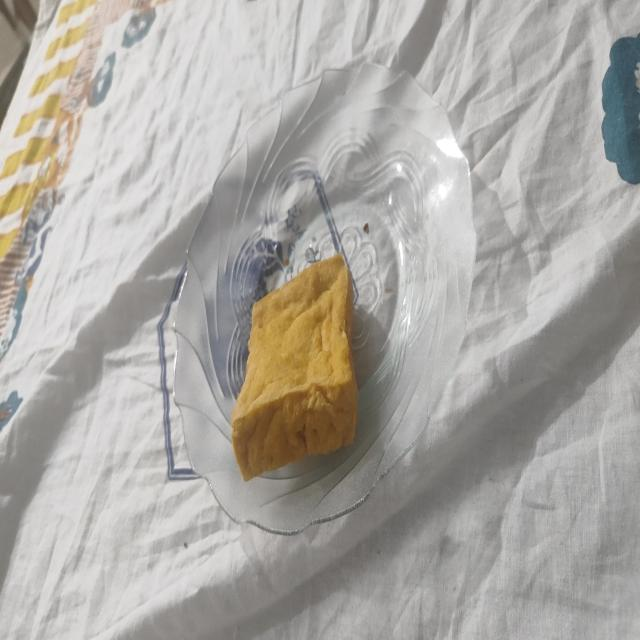tahu_goreng: (231, 254, 358, 480)
